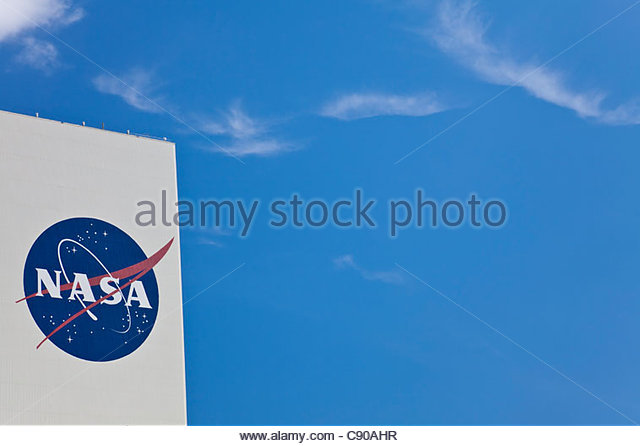NASA: (17, 216, 177, 362)
